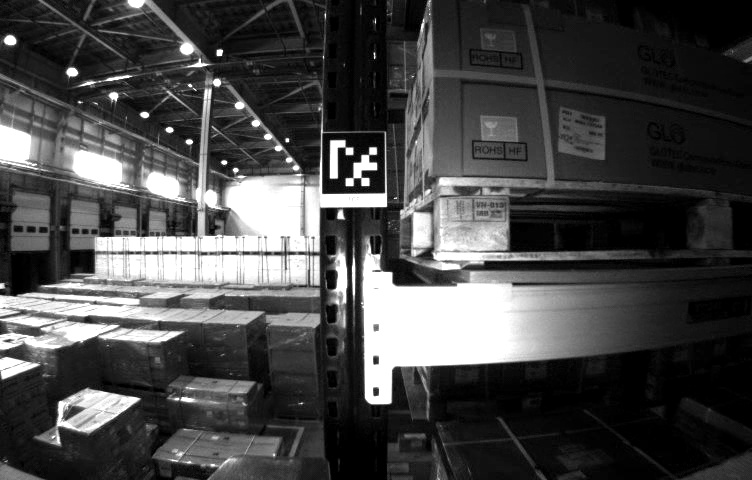True Barcode: (552, 107, 608, 165)
